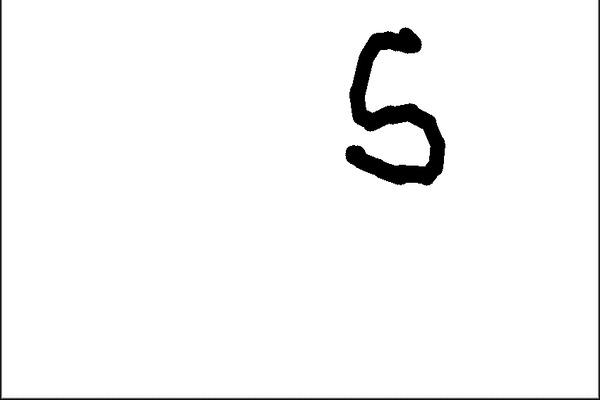S: (333, 20, 457, 194)
